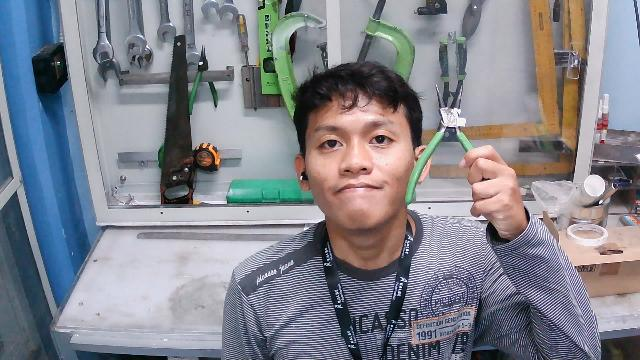tang_cucut_lancip_1: (403, 81, 492, 218)
